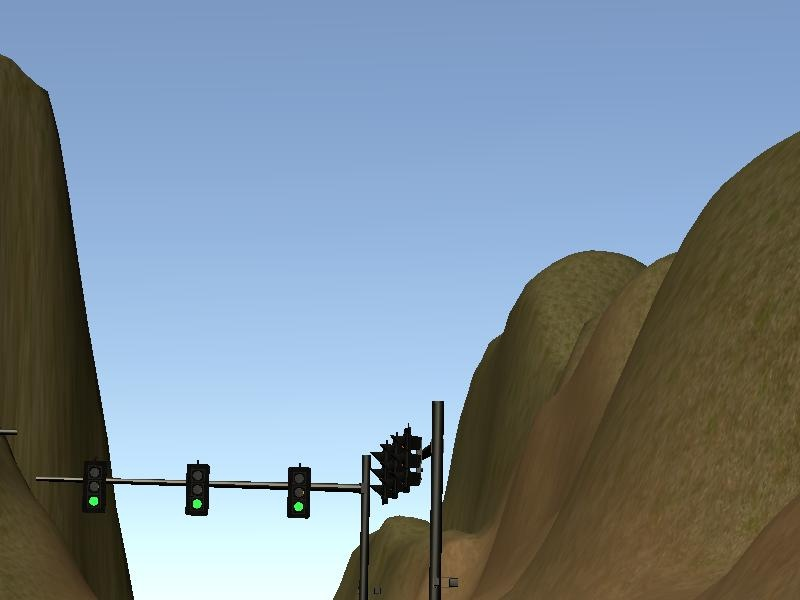green: (82, 458, 104, 514), (185, 466, 209, 516), (287, 466, 309, 520)
